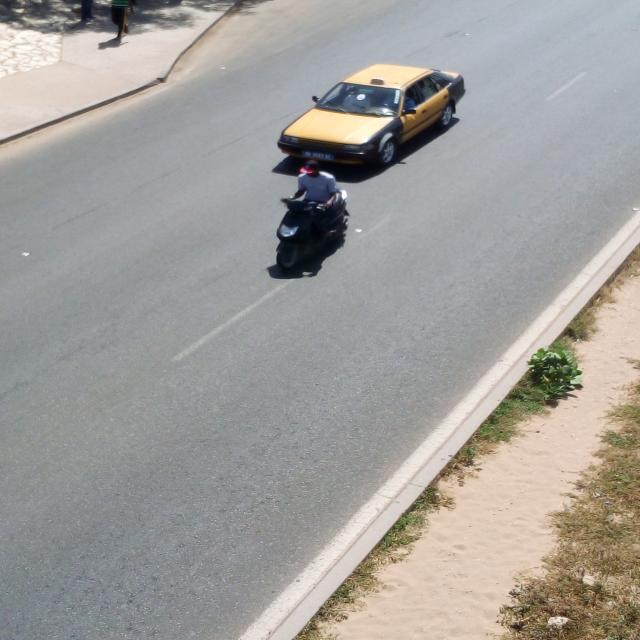moto: (278, 191, 349, 270)
taxi: (279, 65, 466, 167)
